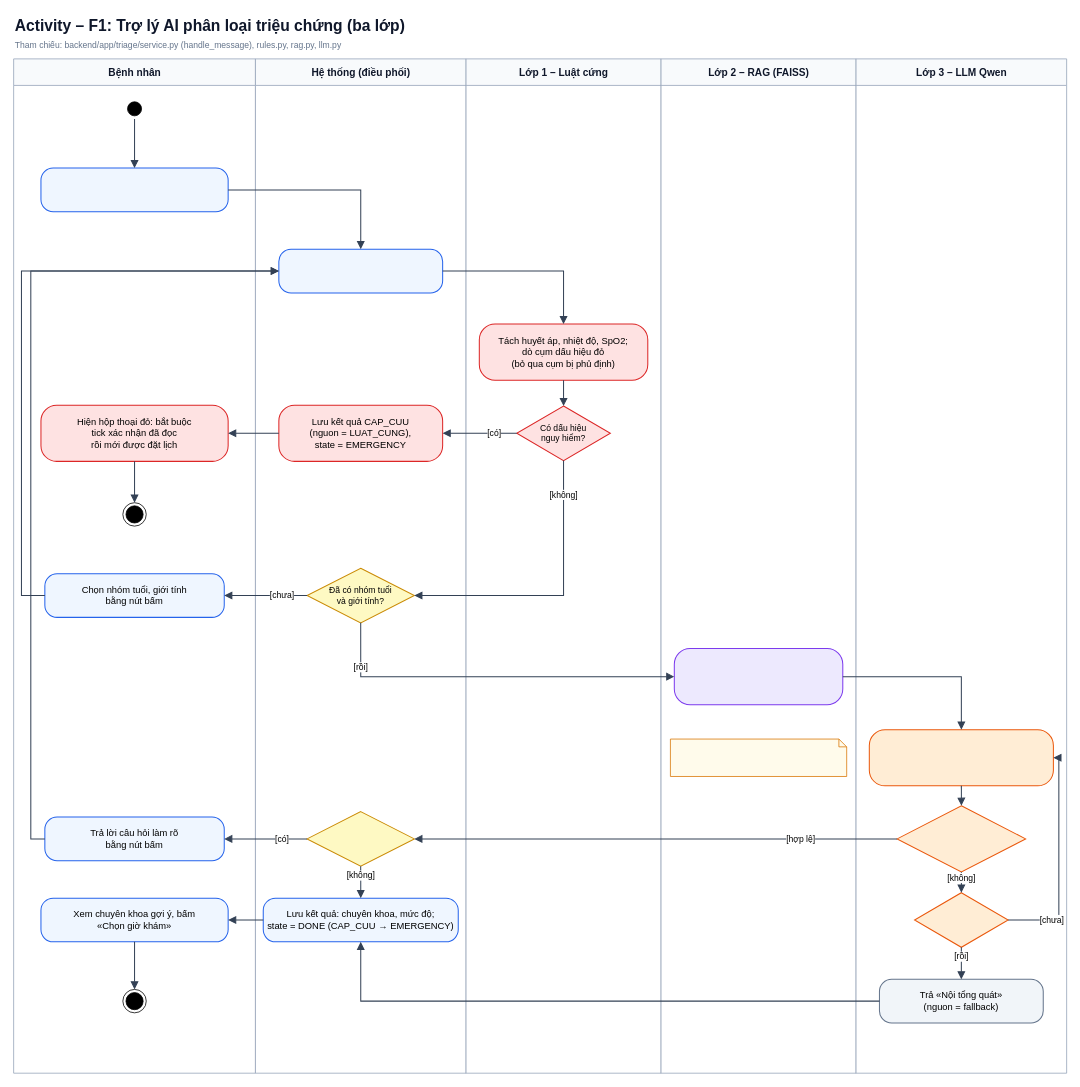
The diagram is 1080 pixels wide and 1087 high, and some of its shapes have lost their labels. Here are the shapes that lost their labels. From the top down, the centre of each, then its label:
the point at 134,189: Kể triệu chứng bằng lời (có thể kèm huyết áp, nhiệt độ, SpO2)
the point at 360,270: Chuẩn hóa lời kể, lưu tin nhắn vào phiên
the point at 758,676: Tìm 5 bệnh có mô tả gần nhất (TF-IDF → LSA → FAISS, cosine)
the point at 758,757: Không có API key: dùng bộ phân loại offline (bỏ phiếu theo 5 kết quả RAG)
the point at 961,757: Gọi LLM Qwen: prompt gồm chuyên khoa, tuổi/giới, chỉ số, lời kể, 5 bệnh từ RAG
the point at 360,838: Cần hỏi thêm và còn lượt (≤ 2)?
the point at 961,838: JSON hợp lệ? (đúng schema, chuyên khoa thuộc danh mục)
the point at 961,919: Đã gọi lại 1 lần?
